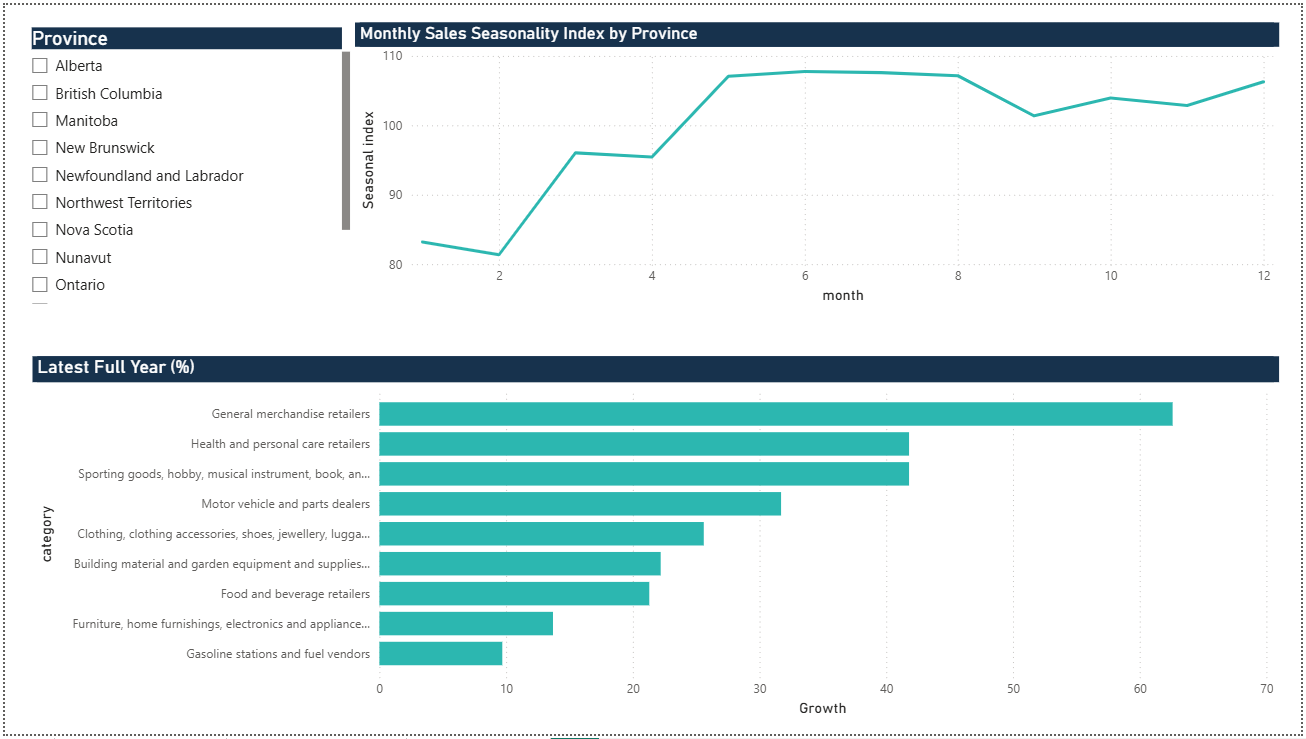

Layout of this report page (visuals, bound fields, positions):
{"tool":"powerbi","page":{"name":"Category Analysis","canvas":[1280,720],"ordinal":1},"visuals":[{"type":"clusteredBarChart","title":"Latest Full Year (%)","fields":{"Y":["Max(q03_category_growth.total_growth_pct)"],"Category":["q03_category_growth.category"]},"box":[27.2,346.9,1230.9,360.5],"z":0},{"type":"lineChart","title":"Monthly Sales Seasonality Index by Province","fields":{"Category":["q04_seasonality_index.month"],"Y":["Avg(q04_seasonality_index.seasonal_index)"]},"box":[345.8,17.8,912.5,282.7],"z":1000},{"type":"slicer","fields":{"Values":["q04_seasonality_index.province"]},"box":[13.7,17.8,332.1,282.7],"z":2000}]}

Visuals, with their boxes in screenshot pixels (x1, y1, x2, y2), scaled from the page's 1280x720 canvas onto the 1306x739 screenshot:
"Latest Full Year (%)" clusteredBarChart: bbox=(28, 356, 1284, 726)
"Monthly Sales Seasonality Index by Province" lineChart: bbox=(353, 18, 1284, 308)
slicer - q04_seasonality_index.province: bbox=(14, 18, 353, 308)
